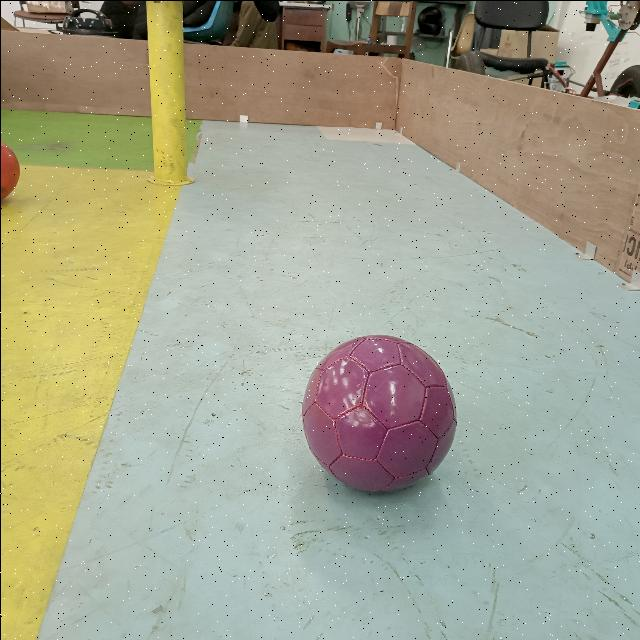P: (298, 330, 460, 494)
R: (0, 135, 22, 205)
